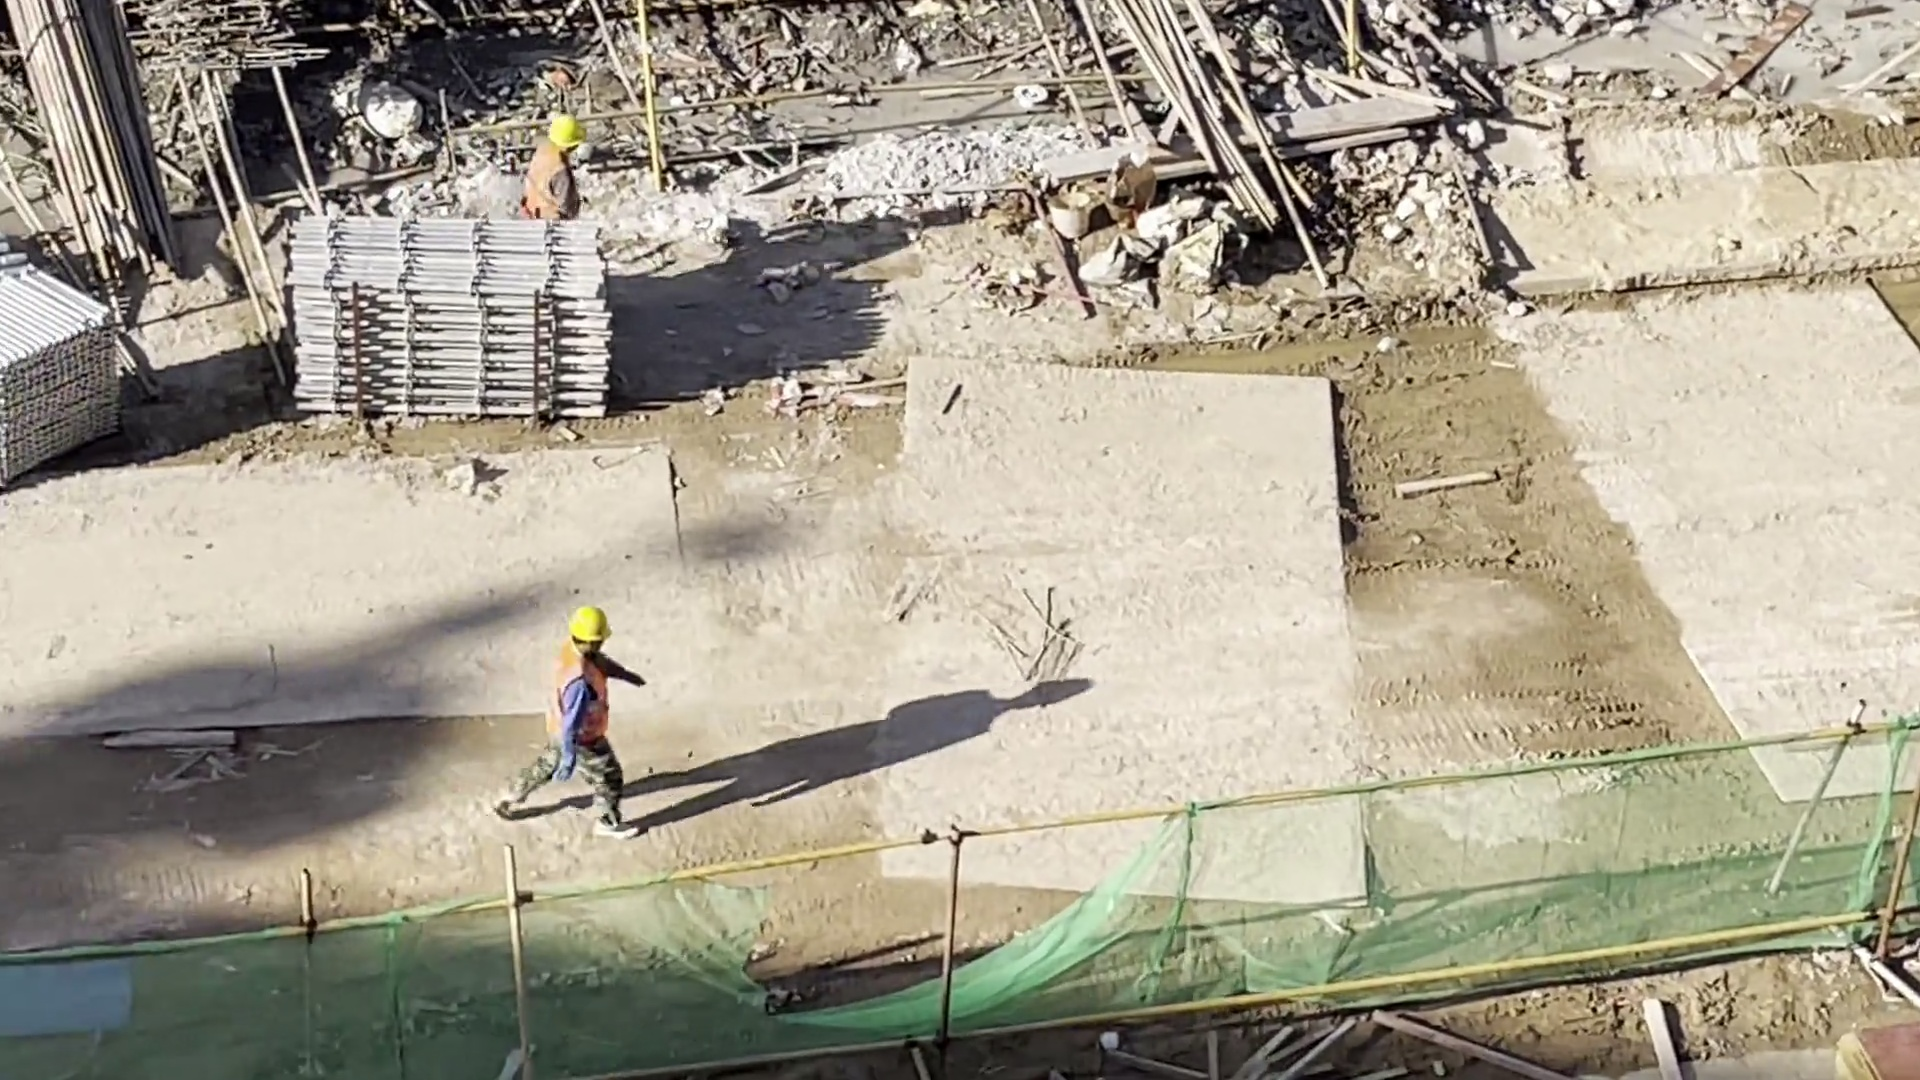board: (1822, 1011, 1920, 1076)
helmet: (562, 598, 618, 654), (541, 106, 589, 157)
person: (489, 605, 642, 843), (506, 108, 645, 243)
scaffold: (266, 190, 629, 431), (2, 262, 139, 494)
vest: (545, 648, 626, 745), (522, 146, 584, 220)
